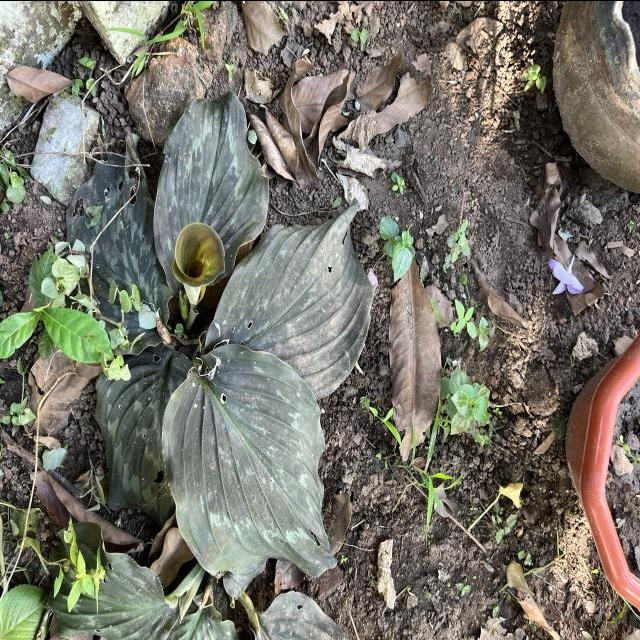Kaempferia galanga linn: (158, 340, 346, 580)
